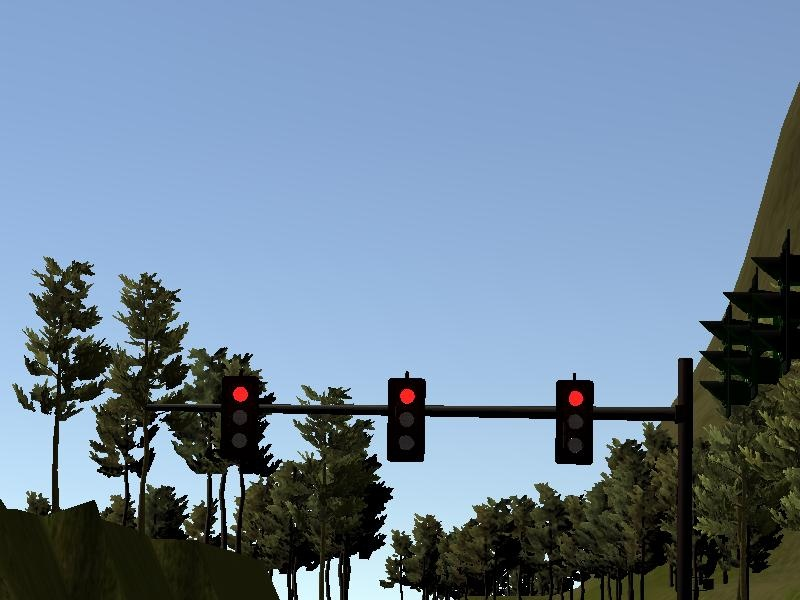red: (386, 379, 428, 461), (219, 375, 261, 457), (553, 380, 594, 463)
